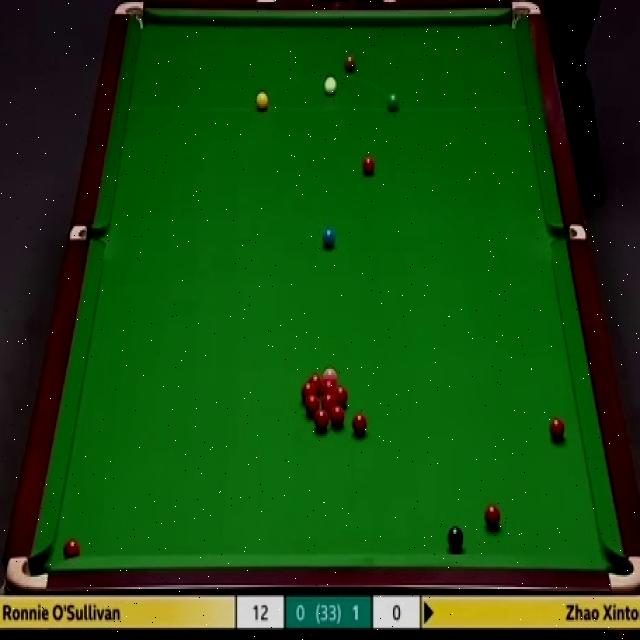black-ball: (447, 526, 465, 552)
blue-ball: (321, 227, 336, 250)
brown-ball: (344, 55, 356, 75)
green-ball: (386, 93, 401, 114)
pink-ball: (323, 368, 337, 379)
red-ball: (484, 504, 502, 530), (361, 154, 376, 178), (550, 418, 565, 442), (352, 414, 368, 436), (329, 406, 344, 429), (65, 537, 80, 558), (315, 410, 329, 432), (302, 382, 318, 399), (334, 387, 348, 406), (309, 376, 323, 394), (306, 396, 318, 416), (322, 378, 334, 395), (323, 394, 336, 409)
white-ball: (324, 76, 337, 96)
yellow-ball: (256, 92, 268, 112)
